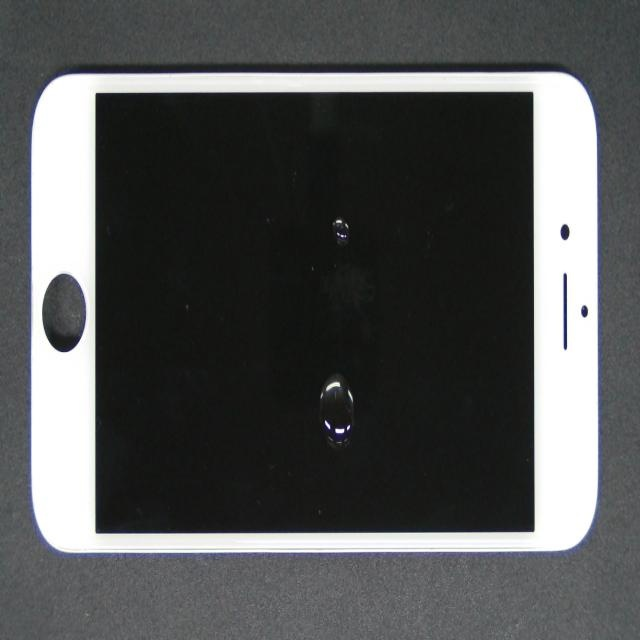oil: (179, 233, 541, 628), (149, 150, 502, 360)
